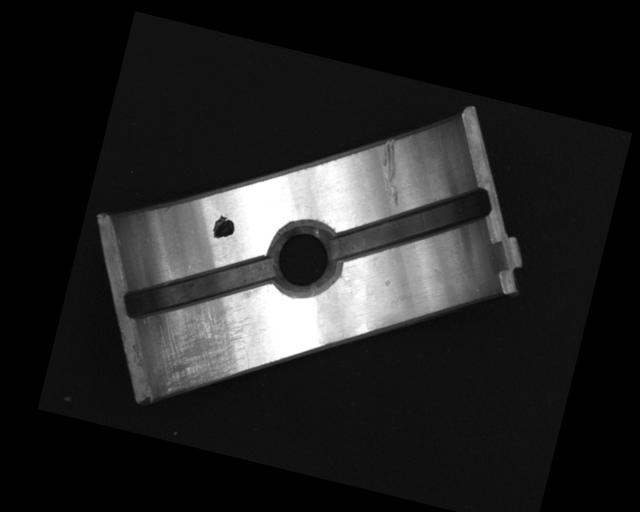blot: (209, 212, 238, 243)
bruise: (383, 275, 392, 287)
gap: (329, 159, 493, 292), (120, 226, 279, 348)
hole: (262, 214, 348, 305)
nick: (370, 136, 413, 207)
scratch: (141, 286, 262, 410)
